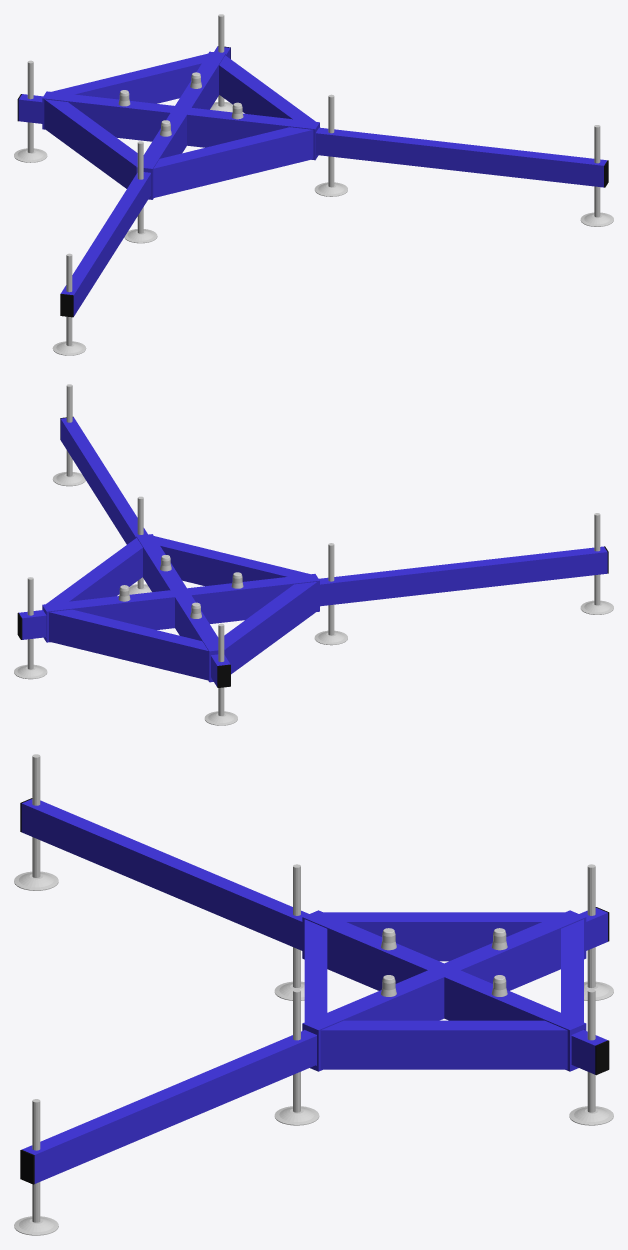
The model's file is TowerBase.glb.
3 views of the same model, one above another, from view 1: azimuth 30°, elevation 25°; view 2: azimuth 150°, elevation 25°; view 3: azimuth 270°, elevation 25° (orthographic). The views are drawn at different scales.
Visible parts, largest first — view 1: MT1-01B|SteelBase, MT1-05|LongOutrigger, MT1-04|ShortOutrigger; view 2: MT1-01B|SteelBase, MT1-05|LongOutrigger, MT1-04|ShortOutrigger; view 3: MT1-01B|SteelBase, MT1-05|LongOutrigger, MT1-04|ShortOutrigger.
Part boxes in pixels (x1,y1,x2,y2): MT1-01B|SteelBase: [42, 51, 319, 199]; MT1-05|LongOutrigger: [52, 94, 613, 355]; MT1-04|ShortOutrigger: [14, 14, 232, 162]; MT1-01B|SteelBase: [42, 534, 319, 682]; MT1-05|LongOutrigger: [52, 384, 613, 645]; MT1-04|ShortOutrigger: [14, 577, 237, 725]; MT1-01B|SteelBase: [302, 910, 586, 1071]; MT1-05|LongOutrigger: [14, 754, 319, 1235]; MT1-04|ShortOutrigger: [569, 864, 613, 1125].
Size of the model in its own units: 1.88 by 0.3026 by 1.31.
